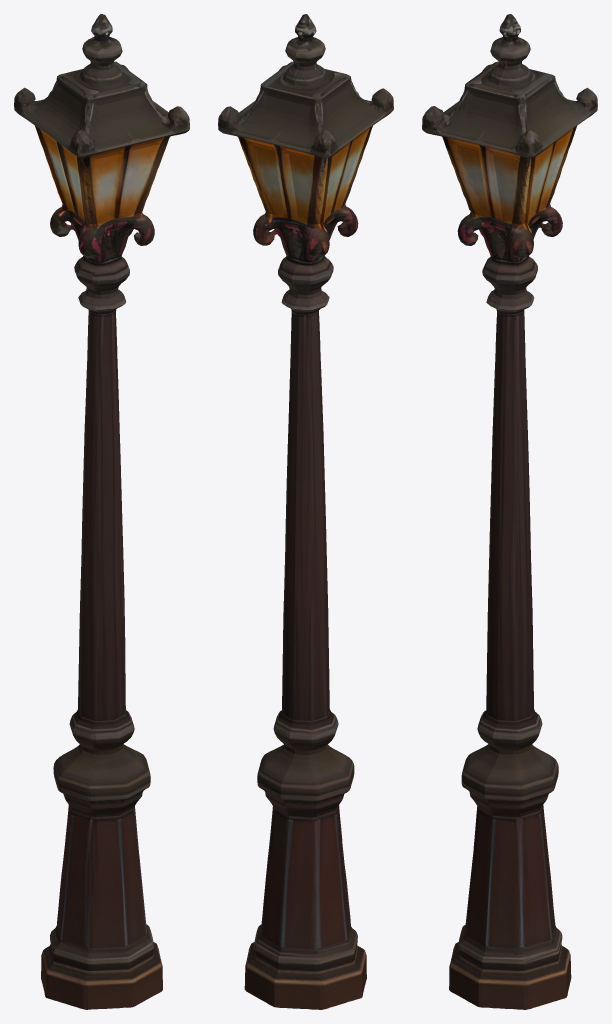
File: cafe-lamp.glb
The picture shows the model from 3 angles, left to right: view 1: azimuth 30°, elevation 25°; view 2: azimuth 150°, elevation 25°; view 3: azimuth 330°, elevation 25°; orthographic projection.
Visible parts, largest first — view 1: textured; view 2: textured; view 3: textured.
Boxes of the visible parts, bbox=[...] form: textured: bbox=[14, 14, 189, 1009]; textured: bbox=[218, 14, 393, 1009]; textured: bbox=[422, 14, 597, 1009].
Size of the model in its own units: 0.2414 by 1.99 by 0.2476.
1 material, 1 textured.
